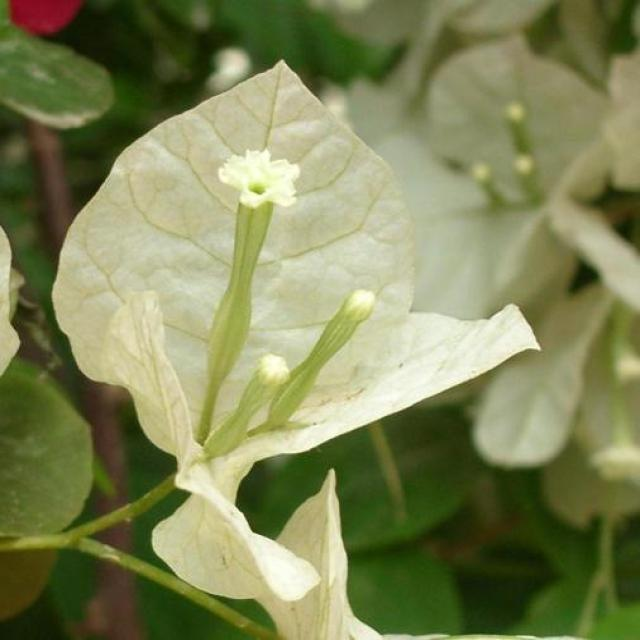bougainvillea: (27, 46, 580, 640)
